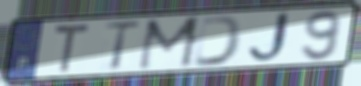9: (299, 8, 344, 62)
D: (191, 14, 246, 68)
J: (246, 10, 298, 65)
M: (135, 14, 205, 73)
T: (50, 21, 92, 75), (101, 19, 143, 73)
